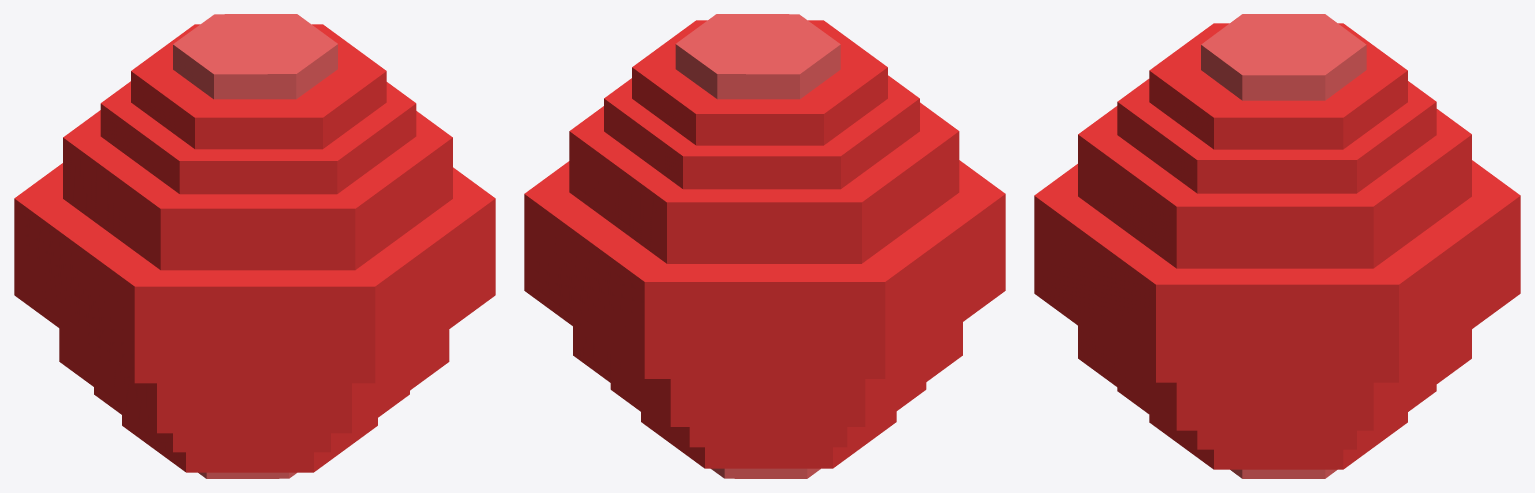
Rendered from planet_round_red.glb.
3 views of the same model, side by side, from view 1: azimuth 30°, elevation 25°; view 2: azimuth 150°, elevation 25°; view 3: azimuth 270°, elevation 25° (orthographic).
Visible parts, largest first — view 1: hexagon_ring (×9); view 2: hexagon_ring (×9); view 3: hexagon_ring (×9).
Part boxes in pixels (x1,y1,x2,y2): hexagon_ring (×9): (14, 14, 495, 478); hexagon_ring (×9): (524, 14, 1005, 478); hexagon_ring (×9): (1034, 14, 1520, 478).
Size of the model in its own units: 1.2 by 1.28 by 1.39.
